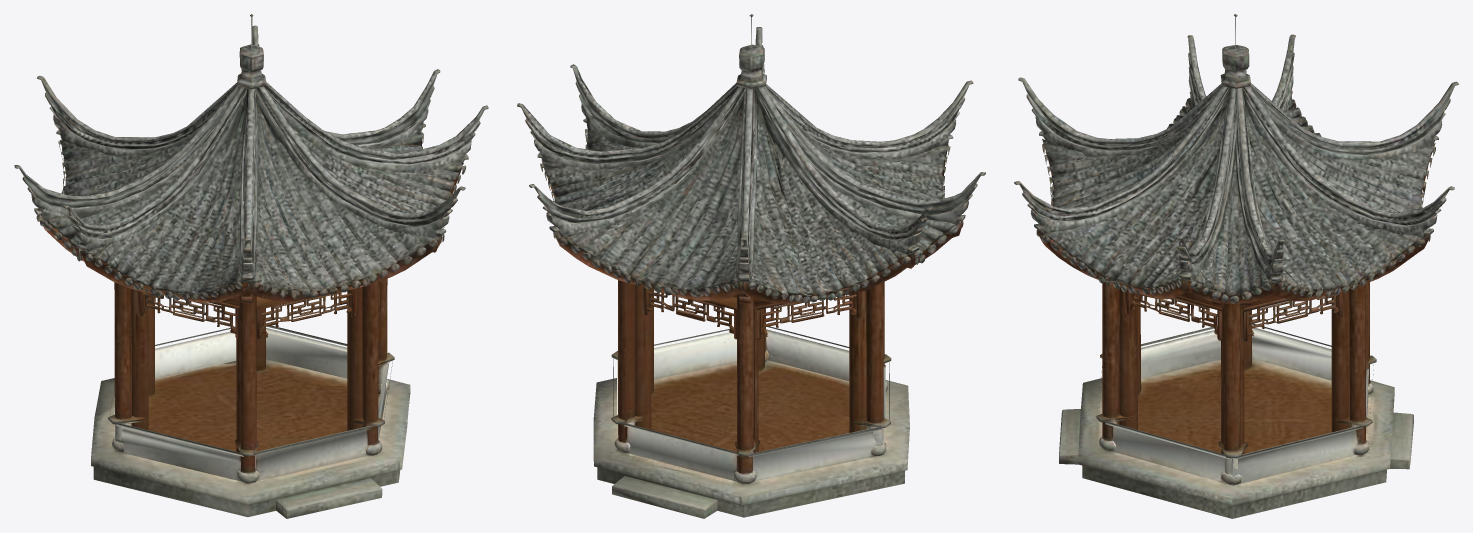
Rendered from station_0.glb.
3 renders of one model, left to right at view 1: azimuth 30°, elevation 25°; view 2: azimuth 150°, elevation 25°; view 3: azimuth 270°, elevation 25°, orthographic.
Parts seen in each view (by area): view 1: tripo_node_6d3cc7fc-00ab-4187-a01a-2e0920d70f90; view 2: tripo_node_6d3cc7fc-00ab-4187-a01a-2e0920d70f90; view 3: tripo_node_6d3cc7fc-00ab-4187-a01a-2e0920d70f90.
Boxes of the visible parts, box(x1,y1,x2,y2) form: tripo_node_6d3cc7fc-00ab-4187-a01a-2e0920d70f90: box(14, 14, 488, 518); tripo_node_6d3cc7fc-00ab-4187-a01a-2e0920d70f90: box(517, 14, 985, 518); tripo_node_6d3cc7fc-00ab-4187-a01a-2e0920d70f90: box(1014, 14, 1458, 518).
Bounding box in the file's own units: 0.9995 × 0.9732 × 0.9126.
1 material, 1 textured.
